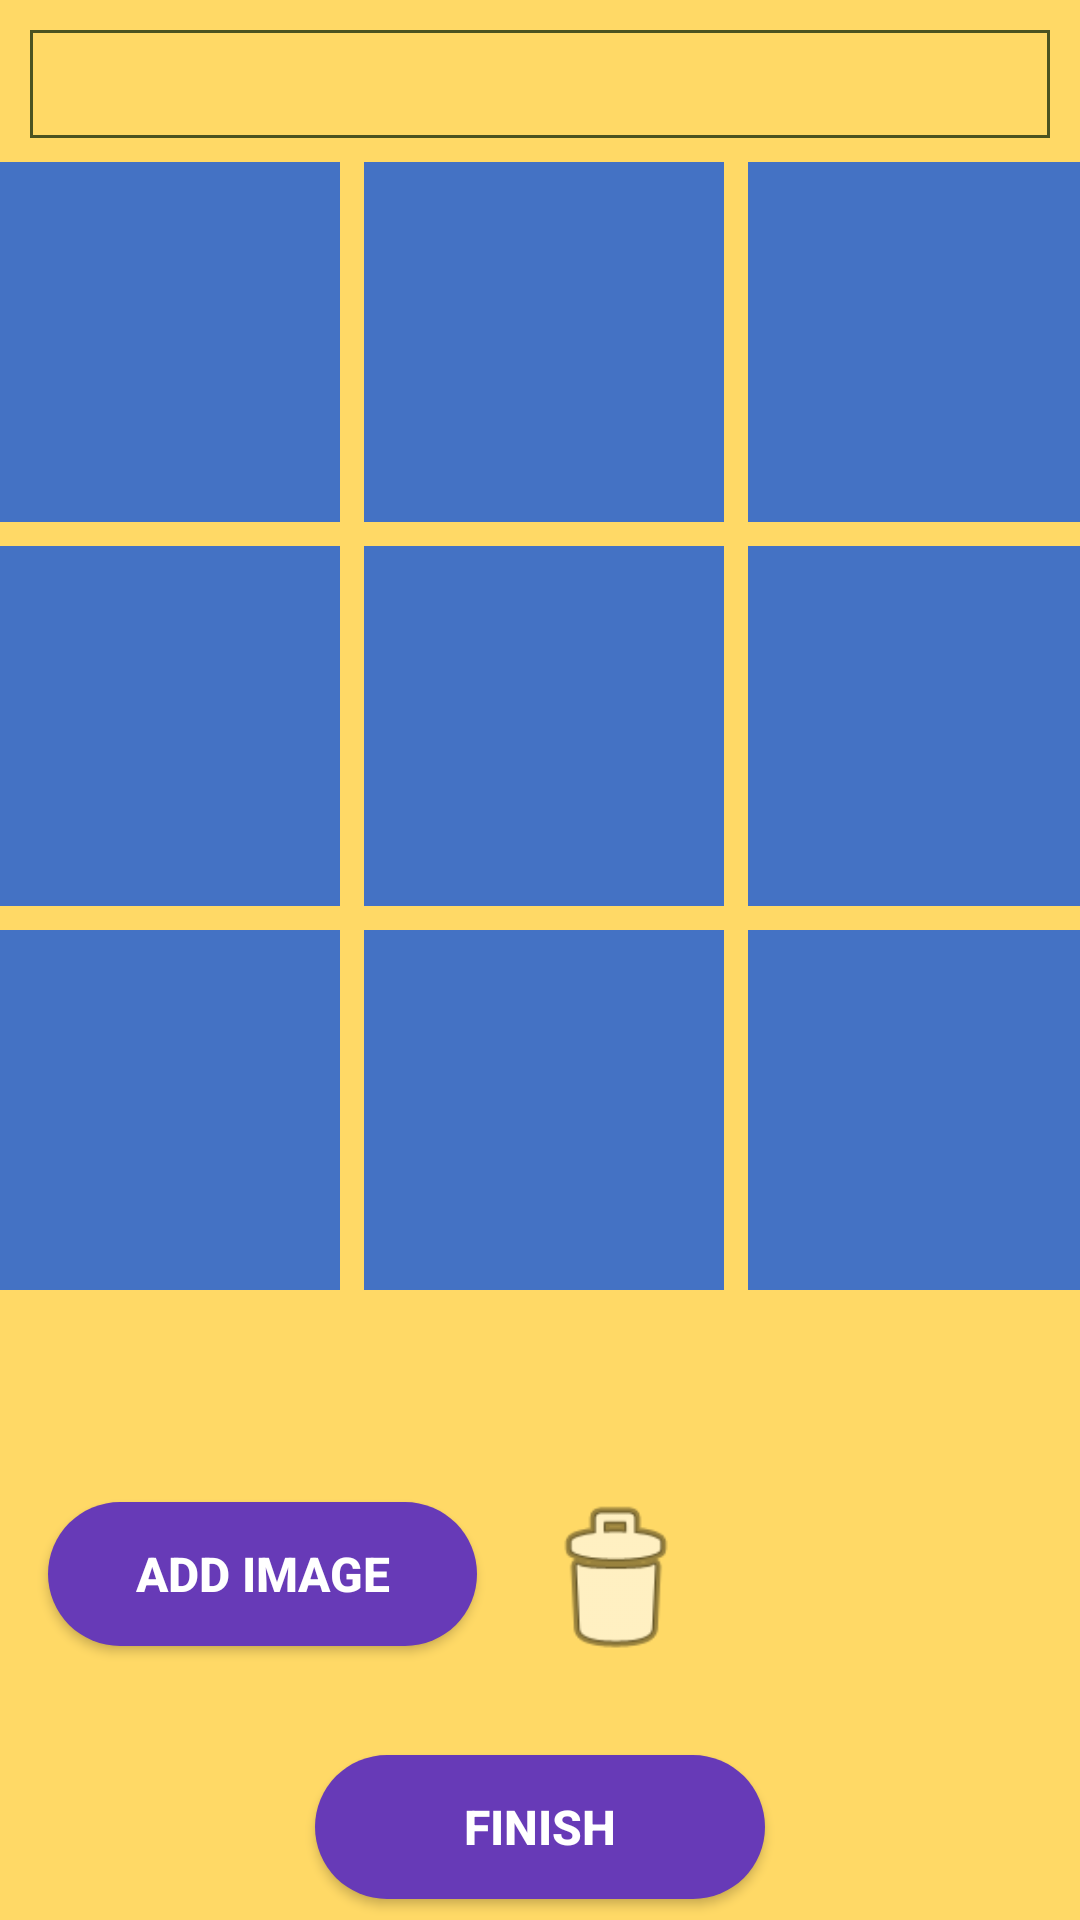

Named icons in this screenshot (1080 x 1920) and their centers, (x,y):
Delete: (616,1577)
